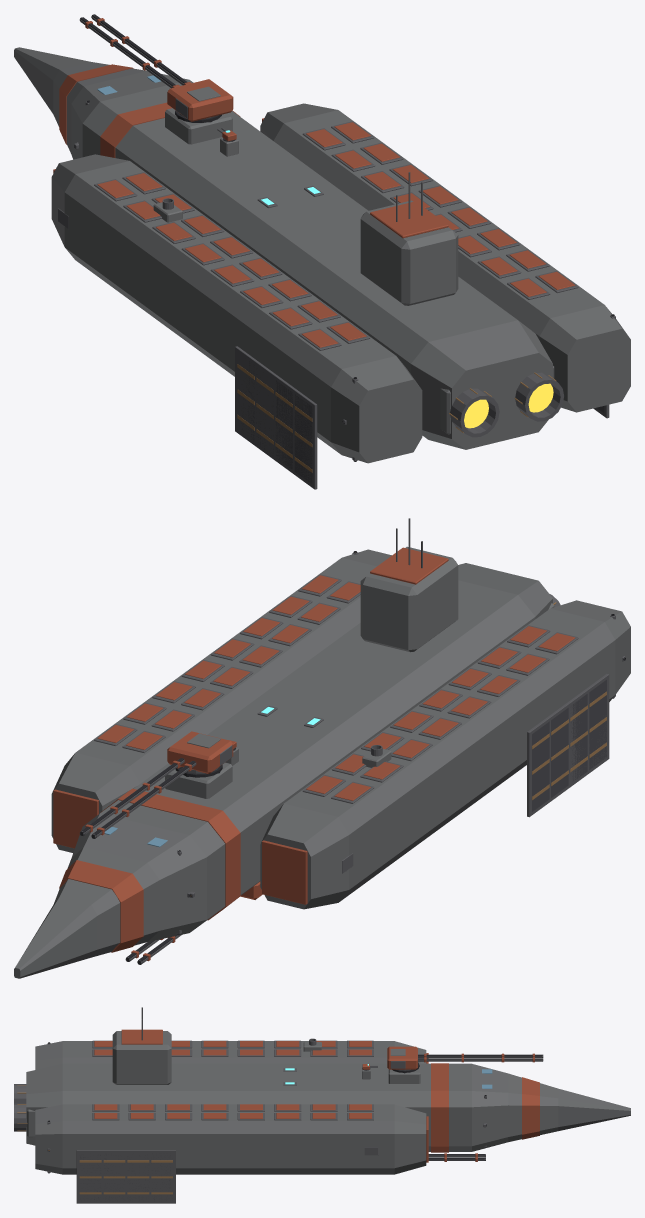
Rendered from mars_missile_cruiser_t5.glb.
The picture shows the model from 3 angles, top to bottom: view 1: azimuth 30°, elevation 25°; view 2: azimuth 150°, elevation 25°; view 3: azimuth 270°, elevation 25°; orthographic projection. The views are drawn at different scales.
Parts seen in each view (by area): view 1: FleetHull, mesh_turret_gun_1, mesh_recoil_gun_1; view 2: FleetHull, mesh_turret_gun_1, mesh_recoil_gun_1; view 3: FleetHull, mesh_recoil_gun_1, mesh_turret_gun_1, mesh_recoil_gun_2.
Boxes of the visible parts, bbox=[...] form: FleetHull: bbox=[14, 47, 630, 489]; mesh_turret_gun_1: bbox=[167, 79, 233, 121]; mesh_recoil_gun_1: bbox=[79, 14, 191, 88]; FleetHull: bbox=[14, 518, 630, 978]; mesh_turret_gun_1: bbox=[167, 731, 233, 773]; mesh_recoil_gun_1: bbox=[79, 758, 196, 838]; FleetHull: bbox=[14, 1007, 630, 1203]; mesh_recoil_gun_1: bbox=[418, 1053, 543, 1062]; mesh_turret_gun_1: bbox=[387, 1046, 417, 1070]; mesh_recoil_gun_2: bbox=[428, 1153, 485, 1161].
Bounding box in the file's own units: 93.36 × 75.74 × 271.
